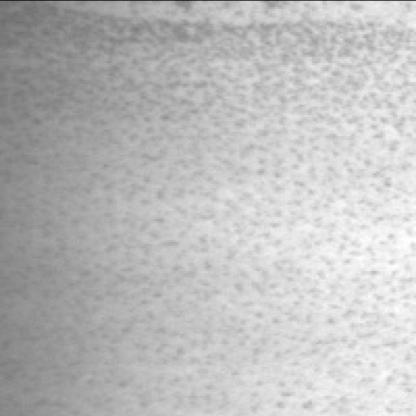pitted_surface: (2, 12, 416, 414)
